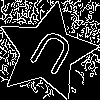U: (21, 27, 77, 85)
